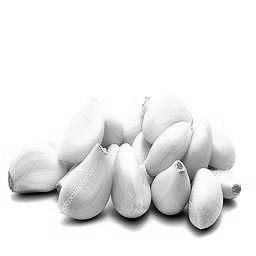bukan telur: (59, 145, 112, 221), (8, 142, 64, 195), (110, 144, 150, 218), (60, 97, 105, 161), (150, 160, 190, 216), (144, 98, 195, 141), (188, 168, 223, 230)
